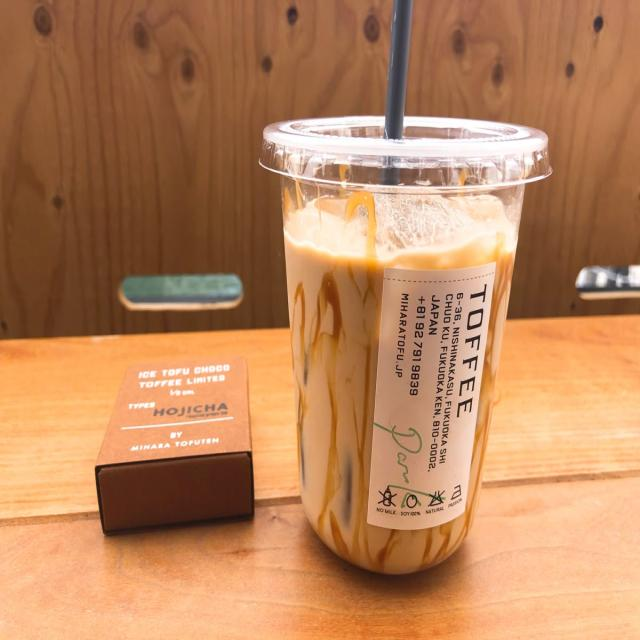plastic cup: (262, 115, 552, 578)
